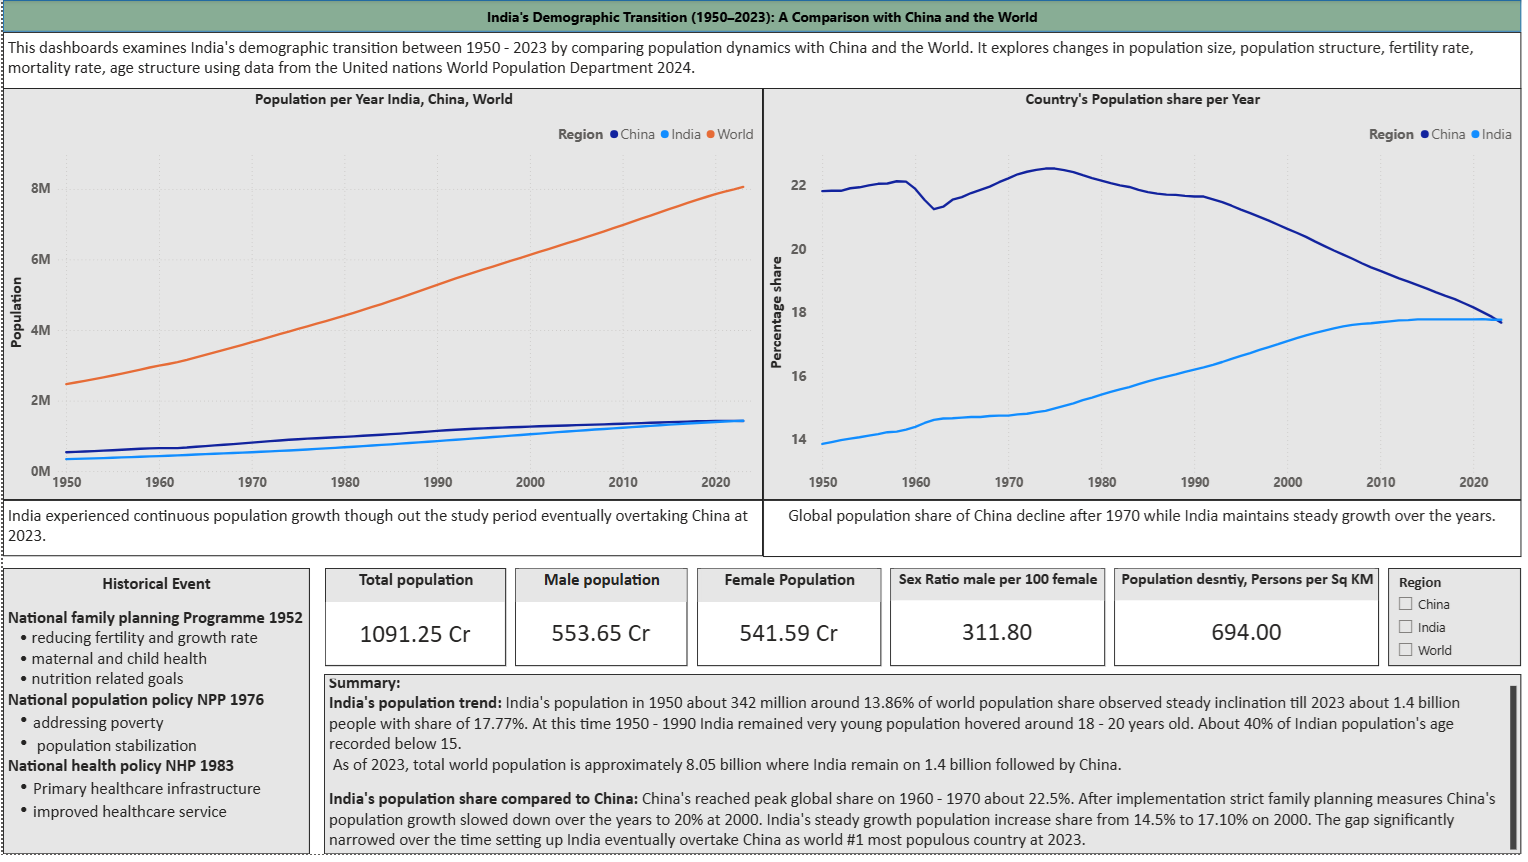

This screenshot's page, from the dashboard's own definition file:
{"tool":"powerbi","page":{"name":"Page 1","canvas":[1920,1080],"ordinal":0},"visuals":[{"type":"lineChart","title":"Population per Year India, China, World","fields":{"Category":["public population.year_"],"Y":["Sum(public population.tp1_jan)"],"Series":["public population.rsc_"]},"box":[0,111.3,961.1,521],"z":0},{"type":"shape","box":[0,0,1920,40],"z":1000},{"type":"lineChart","title":"Country''s Population share per Year","fields":{"Category":["Query3.year_"],"Y":["Sum(Query3.population_share)"],"Series":["Query3.rsc_"]},"box":[961.1,111.3,958.6,521],"z":2000},{"type":"textbox","box":[961.1,632.3,958.6,72.1],"z":3000},{"type":"textbox","box":[0,632.3,961.1,70.8],"z":4000},{"type":"textbox","box":[0,40.2,1919.6,71.7],"z":5000},{"type":"textbox","box":[0,718.1,388.1,362.3],"z":6000},{"type":"textbox","box":[405.9,852.4,1513.8,227.6],"z":7000},{"type":"slicer","fields":{"Values":["population_card_table.rsc_"]},"box":[1751.5,718.3,168.2,123.9],"z":8000},{"type":"cardVisual","title":"Total population","fields":{"Data":["population_card_table.total_population_in_lakh/crore"]},"box":[406.7,718.2,228.5,123.8],"z":9000},{"type":"cardVisual","title":"Male population","fields":{"Data":["population_card_table.male_population_in_lakhs/crore"]},"box":[647.5,718.2,217.6,123.8],"z":10000},{"type":"cardVisual","title":"Female Population","fields":{"Data":["population_card_table.female_population_in_lakhs/crore"]},"box":[877.3,718.2,232.6,123.8],"z":11000},{"type":"cardVisual","title":"Sex Ratio male per 100 female","fields":{"Data":["Sum(population_card_table.sex_ratio)"]},"box":[1121.7,718.1,271.7,124.2],"z":12000},{"type":"cardVisual","title":"Population desntiy, Persons per Sq KM","fields":{"Data":["Sum(population_card_table.population_density)"]},"box":[1405.1,718.1,335.1,124.2],"z":13000}]}

Visuals, with their boxes in screenshot pixels (x1, y1, x2, y2), scaled from the page's 1920x1080 canvas onto the 1528x862 screenshot:
"Population per Year India, China, World" lineChart: <bbox>0, 89, 765, 505</bbox>
shape: <bbox>0, 0, 1527, 32</bbox>
"Country''s Population share per Year" lineChart: <bbox>765, 89, 1527, 505</bbox>
textbox: <bbox>765, 505, 1527, 562</bbox>
textbox: <bbox>0, 505, 765, 561</bbox>
textbox: <bbox>0, 32, 1527, 89</bbox>
textbox: <bbox>0, 573, 309, 861</bbox>
textbox: <bbox>323, 680, 1527, 861</bbox>
slicer - population_card_table.rsc_: <bbox>1394, 573, 1527, 672</bbox>
"Total population" cardVisual: <bbox>324, 573, 506, 672</bbox>
"Male population" cardVisual: <bbox>515, 573, 688, 672</bbox>
"Female Population" cardVisual: <bbox>698, 573, 883, 672</bbox>
"Sex Ratio male per 100 female" cardVisual: <bbox>893, 573, 1109, 672</bbox>
"Population desntiy, Persons per Sq KM" cardVisual: <bbox>1118, 573, 1385, 672</bbox>
